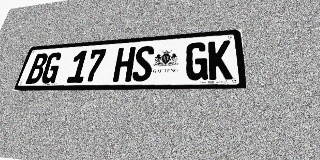1: (66, 50, 90, 83)
7: (83, 49, 107, 83)
B: (25, 53, 49, 84)
G: (185, 42, 208, 80), (40, 52, 64, 84)
H: (112, 47, 136, 82)
K: (208, 40, 233, 80)
S: (131, 45, 155, 82)
